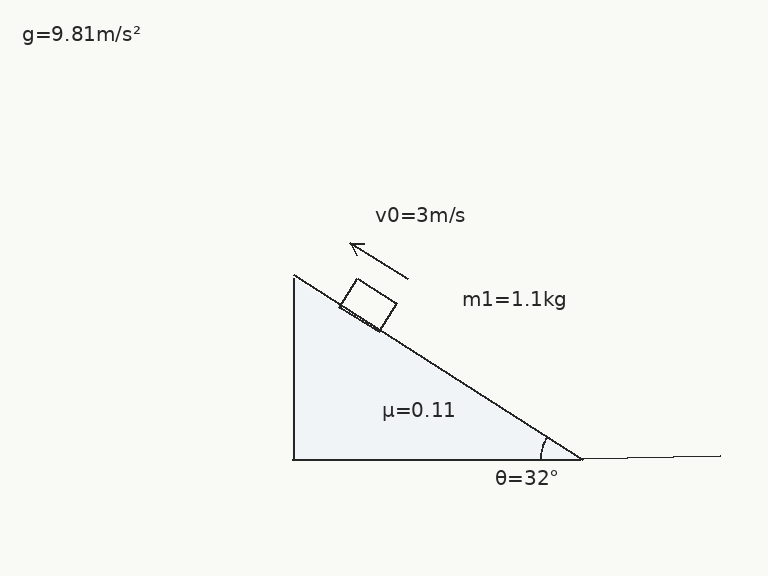block: (337, 276, 398, 333)
ramp: (291, 276, 583, 460)
